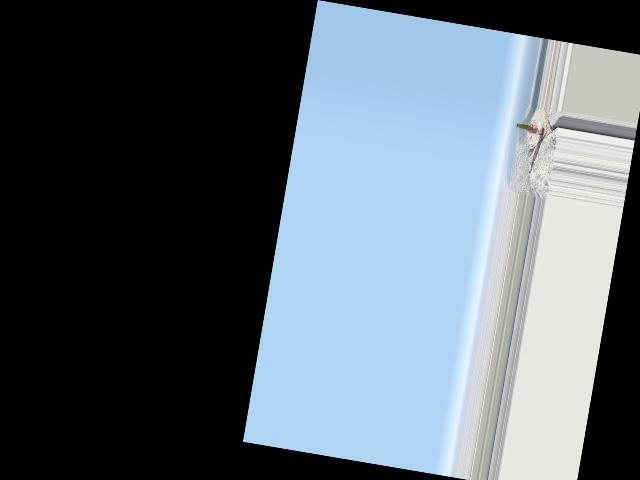beer: (515, 121, 544, 135)
